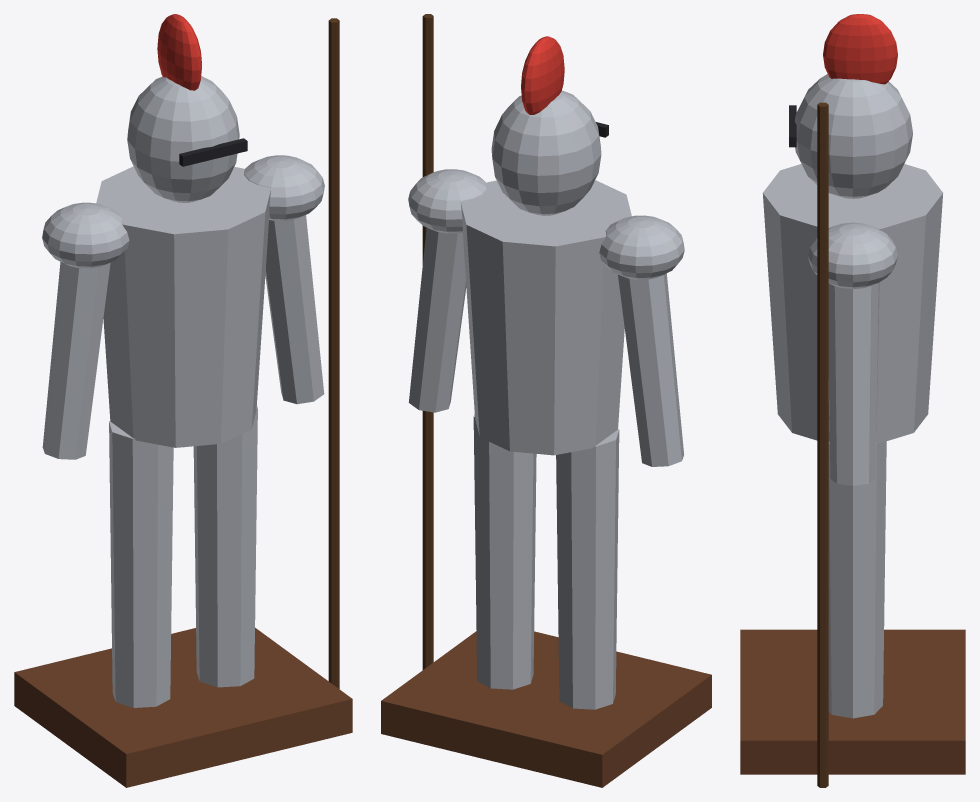
The model's file is knight_armor.glb.
3 renders of one model, left to right at view 1: azimuth 30°, elevation 25°; view 2: azimuth 150°, elevation 25°; view 3: azimuth 270°, elevation 25°, orthographic. The views are drawn at different scales.
Parts seen in each view (by area): view 1: body_armor_steel, leg_armor_steel, base_pawn_wood, arm_armor_steel, helmet_armor_steel, shoulder_armor_steel, spear_armor_shaft, plume_armor_plume, visor_armor_dark; view 2: body_armor_steel, leg_armor_steel, base_pawn_wood, arm_armor_steel, helmet_armor_steel, shoulder_armor_steel, spear_armor_shaft, plume_armor_plume; view 3: body_armor_steel, base_pawn_wood, leg_armor_steel, helmet_armor_steel, arm_armor_steel, spear_armor_shaft, plume_armor_plume, shoulder_armor_steel.
Boxes of the visible parts, box(x1,y1,x2,y2) form: body_armor_steel: box(96, 166, 270, 447); leg_armor_steel: box(109, 405, 257, 707); base_pawn_wood: box(14, 627, 352, 787); arm_armor_steel: box(42, 215, 324, 459); helmet_armor_steel: box(127, 76, 239, 202); shoulder_armor_steel: box(42, 155, 324, 268); spear_armor_shaft: box(328, 18, 339, 688); plume_armor_plume: box(157, 14, 201, 90); visor_armor_dark: box(179, 138, 247, 166); body_armor_steel: box(460, 180, 631, 455); leg_armor_steel: box(473, 414, 619, 709); base_pawn_wood: box(381, 631, 711, 787); arm_armor_steel: box(408, 227, 684, 466); helmet_armor_steel: box(491, 90, 601, 215); shoulder_armor_steel: box(408, 169, 684, 279); spear_armor_shaft: box(422, 14, 433, 669); plume_armor_plume: box(521, 36, 564, 114); body_armor_steel: box(762, 164, 943, 443); base_pawn_wood: box(740, 629, 965, 774); leg_armor_steel: box(828, 441, 886, 718); helmet_armor_steel: box(794, 74, 912, 198); arm_armor_steel: box(828, 283, 878, 485); spear_armor_shaft: box(817, 102, 828, 787); plume_armor_plume: box(823, 14, 897, 84); shoulder_armor_steel: box(808, 222, 897, 288).
Size of the model in its own units: 0.8615 by 2.07 by 0.6.
